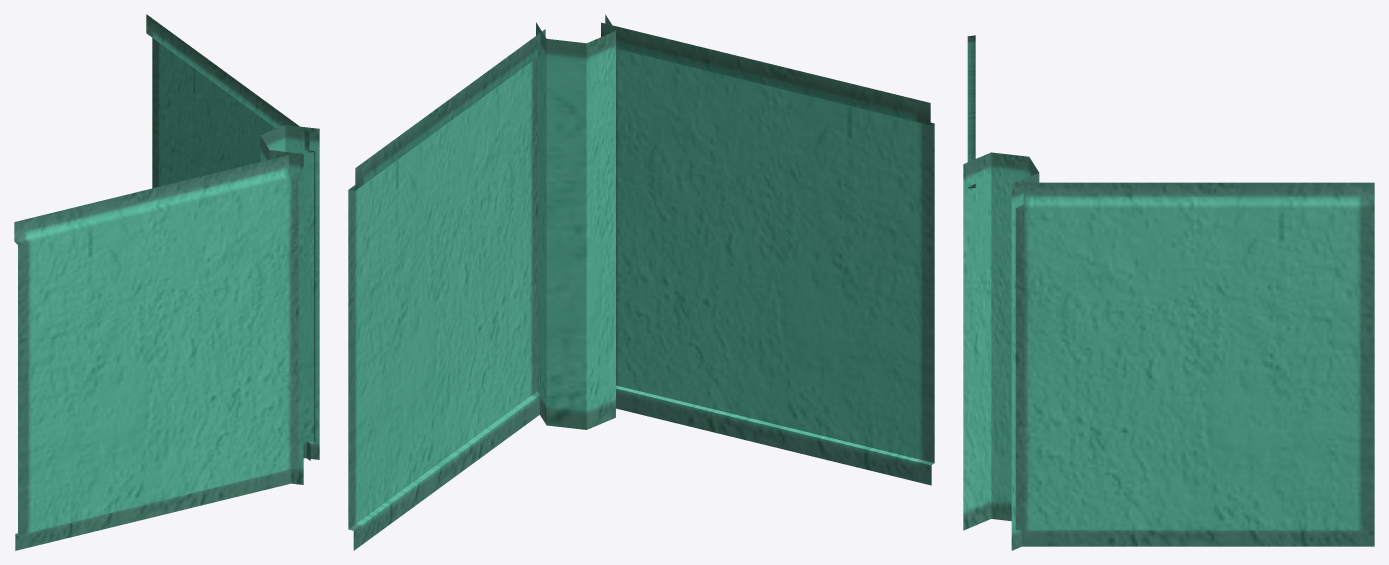
File: Wall_Corner.fbx
3 views of the same model, side by side, from view 1: azimuth 30°, elevation 25°; view 2: azimuth 150°, elevation 25°; view 3: azimuth 270°, elevation 25° (orthographic). The views are drawn at different scales.
Parts seen in each view (by area): view 1: pCube3; view 2: pCube3; view 3: pCube3.
Part boxes in pixels (bbox=[...]): pCube3: bbox=[14, 14, 319, 550]; pCube3: bbox=[348, 14, 934, 550]; pCube3: bbox=[963, 35, 1374, 550].
Bounding box in the file's own units: 10.46 × 10.29 × 10.46.
Materials: 1 (1 with a texture image).
